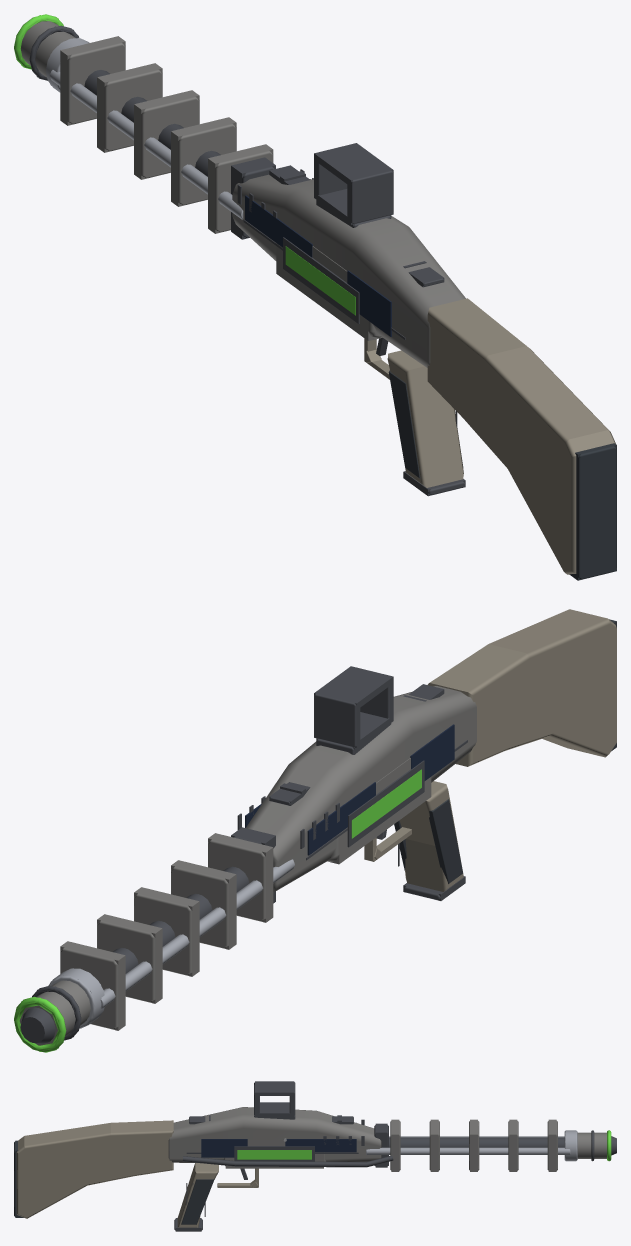
Rendered from erepeat.glb.
3 views of the same model, one above another, from view 1: azimuth 30°, elevation 25°; view 2: azimuth 150°, elevation 25°; view 3: azimuth 270°, elevation 25° (orthographic). The views are drawn at different scales.
Visible parts, largest first — view 1: L0, L1; view 2: L0, L1; view 3: L0, L1.
Part boxes in pixels (x1=…): L0: x1=14, y1=14, x2=616, y2=579; L1: x1=18, y1=15, x2=616, y2=580; L0: x1=14, y1=609, x2=616, y2=1052; L1: x1=14, y1=620, x2=616, y2=1051; L0: x1=14, y1=1082, x2=616, y2=1230; L1: x1=15, y1=1081, x2=616, y2=1231.
Bounding box in the file's own units: 0.0702 × 0.2349 × 0.9198.
